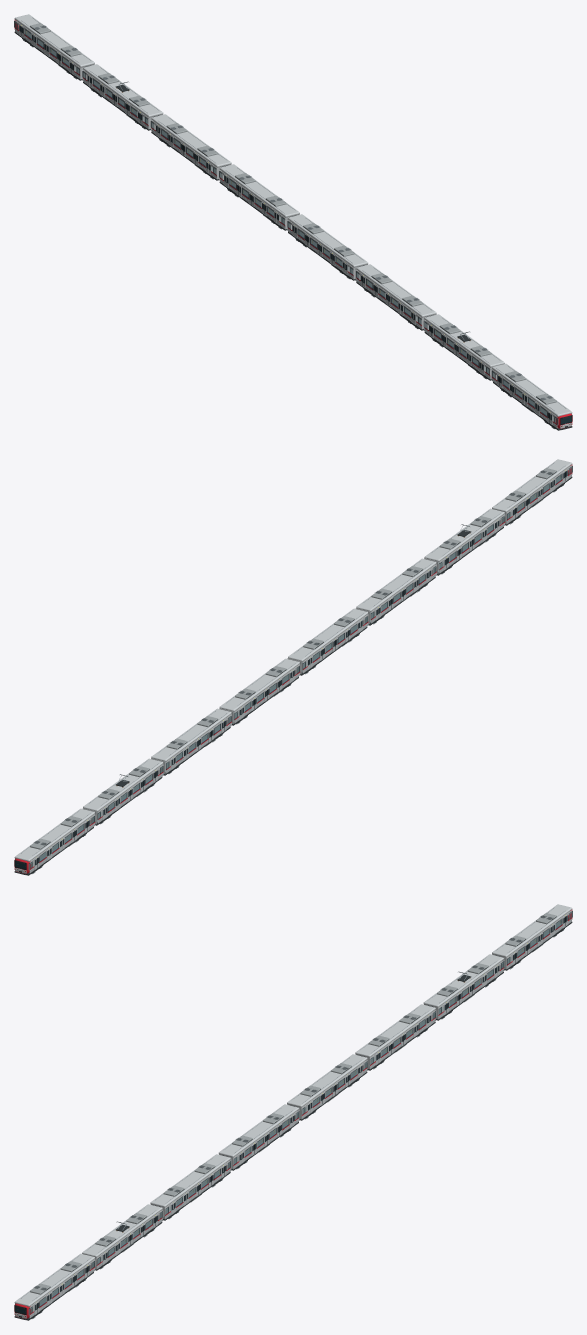
File: tuen-ma-train.glb
3 renders of one model, top to bottom at view 1: azimuth 30°, elevation 25°; view 2: azimuth 150°, elevation 25°; view 3: azimuth 330°, elevation 25°, orthographic.
Visible parts, largest first — view 1: car_01_tm_silver.001, car_03_tm_silver, car_03_tm_silver.001, car_03_tm_silver.002, car_03_tm_silver.003, car_01_tm_silver, car_02_tm_silver.001, car_02_tm_silver; view 2: car_01_tm_silver, car_03_tm_silver.003, car_03_tm_silver.001, car_03_tm_silver.002, car_03_tm_silver, car_01_tm_silver.001, car_02_tm_silver, car_02_tm_silver.001; view 3: car_01_tm_silver.001, car_03_tm_silver, car_03_tm_silver.001, car_03_tm_silver.003, car_03_tm_silver.002, car_01_tm_silver, car_02_tm_silver.001, car_02_tm_silver.
Part boxes in pixels (box(x1,y1,x2,y2)): car_01_tm_silver.001: box(491, 363, 572, 428); car_03_tm_silver: box(150, 114, 231, 179); car_03_tm_silver.001: box(219, 164, 299, 229); car_03_tm_silver.002: box(287, 214, 368, 279); car_03_tm_silver.003: box(355, 264, 436, 329); car_01_tm_silver: box(14, 14, 94, 79); car_02_tm_silver.001: box(423, 314, 504, 379); car_02_tm_silver: box(82, 64, 163, 129); car_01_tm_silver: box(14, 808, 95, 873); car_03_tm_silver.003: box(355, 558, 436, 624); car_03_tm_silver.001: box(219, 658, 300, 723); car_03_tm_silver.002: box(287, 608, 368, 674); car_03_tm_silver: box(151, 708, 231, 774); car_01_tm_silver.001: box(492, 459, 572, 524); car_02_tm_silver: box(82, 758, 163, 824); car_02_tm_silver.001: box(424, 508, 505, 574); car_01_tm_silver.001: box(14, 1253, 95, 1318); car_03_tm_silver: box(355, 1004, 436, 1069); car_03_tm_silver.001: box(287, 1054, 367, 1119); car_03_tm_silver.003: box(150, 1154, 231, 1219); car_03_tm_silver.002: box(218, 1104, 299, 1169); car_01_tm_silver: box(492, 904, 572, 969); car_02_tm_silver.001: box(82, 1204, 163, 1269); car_02_tm_silver: box(423, 954, 504, 1019).
Bounding box in the file's own units: 3.31 × 5.55 × 195.
